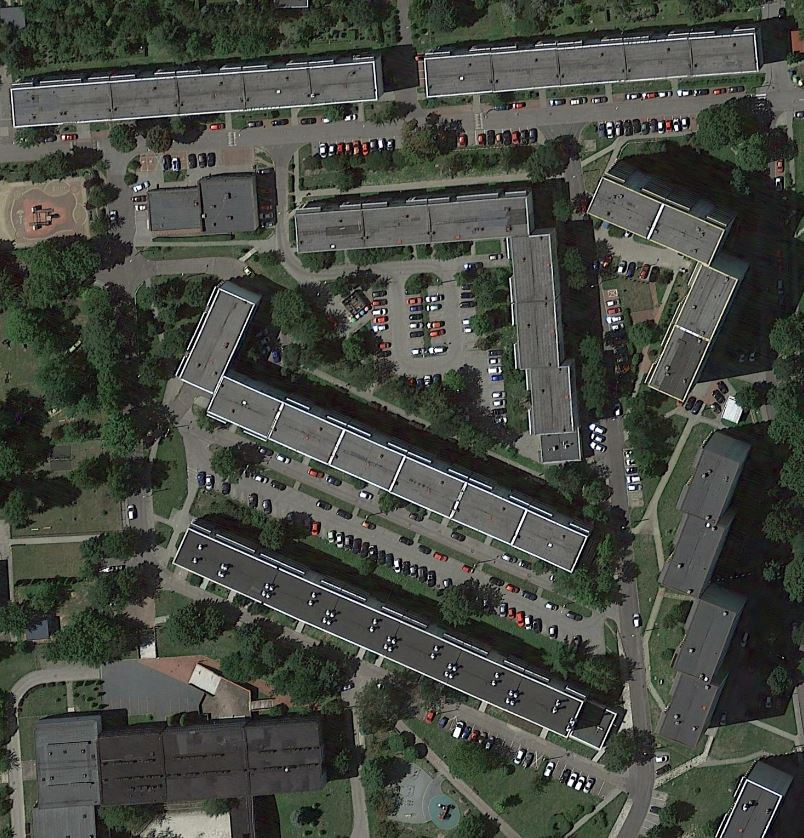block of flats: (172, 280, 596, 576), (171, 519, 619, 755), (292, 180, 590, 468), (20, 699, 335, 836), (583, 154, 752, 407), (651, 425, 759, 753), (6, 43, 386, 133), (417, 19, 768, 106), (144, 165, 270, 243), (700, 758, 799, 838)
